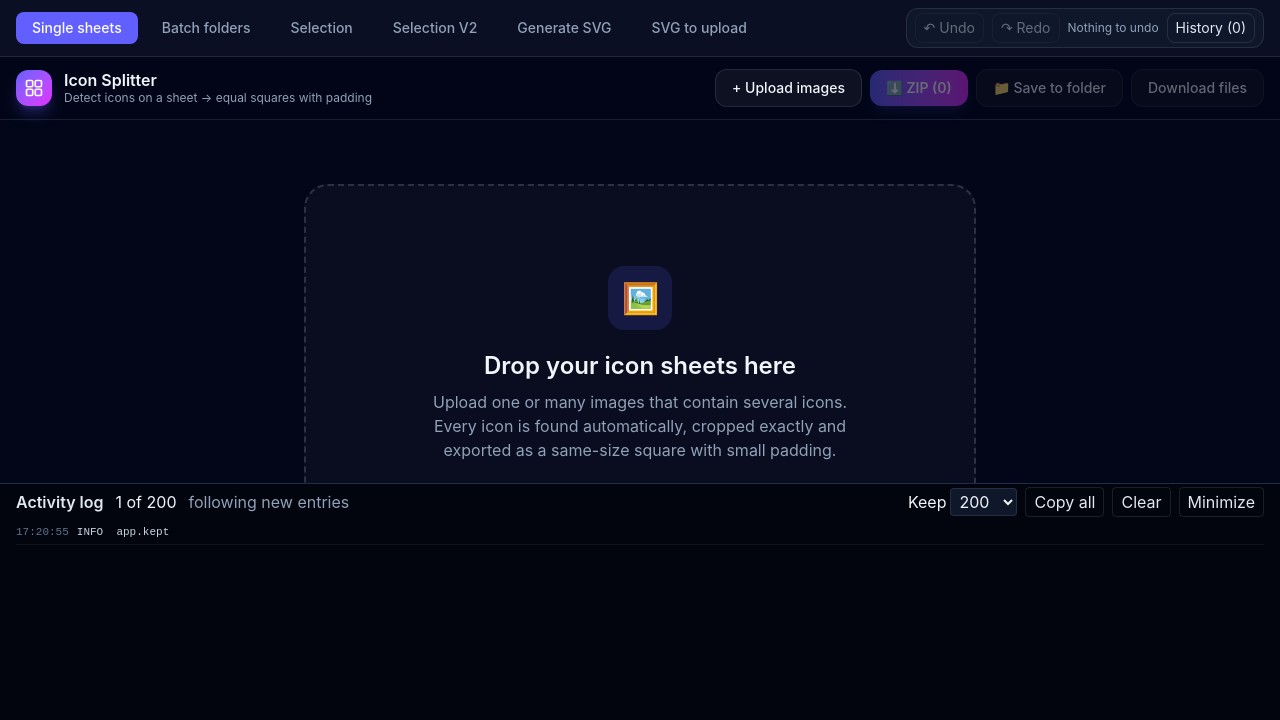
Test: the log dock › minimizes and restores, and remembers the choice across a restart
Click the button with test id "log-minimize": (1221,502) [1178,487,1264,517]
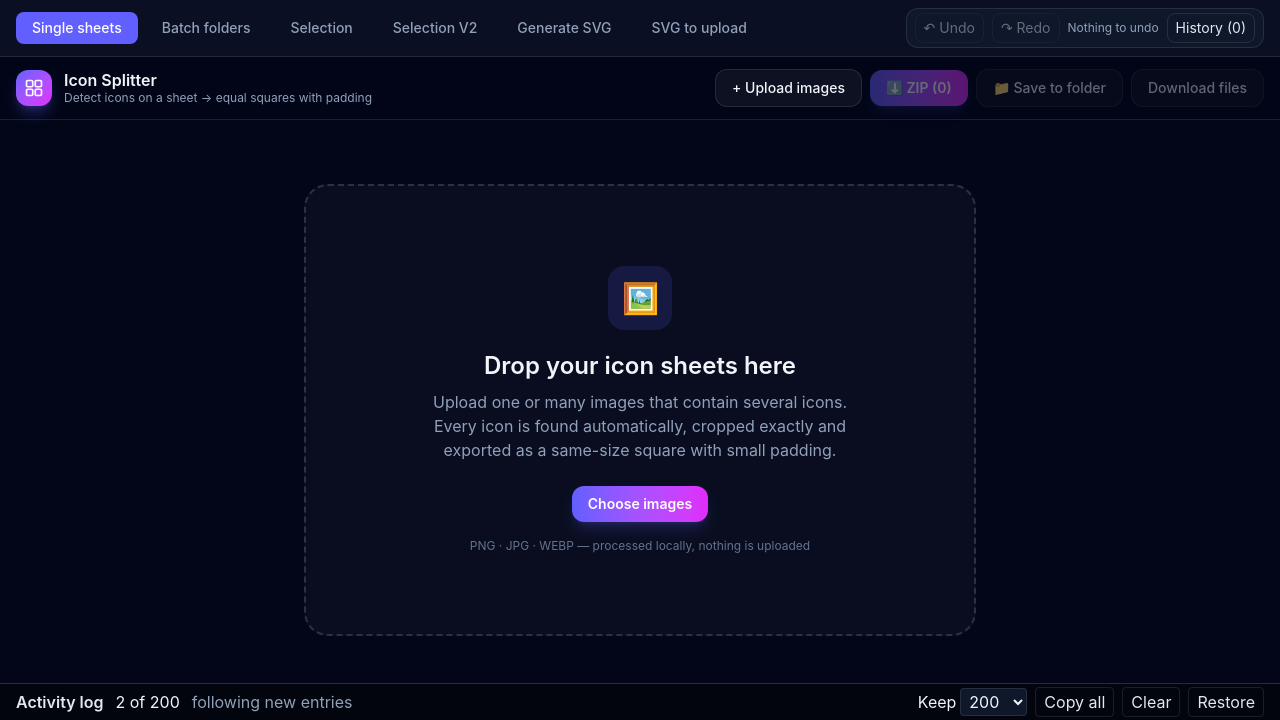
Expected: the button with test id "log-minimize" reads "Restore"
Expected: the element with test id "log-body" is gone
Click the button with test id "log-minimize": (1226,702) [1188,687,1264,717]
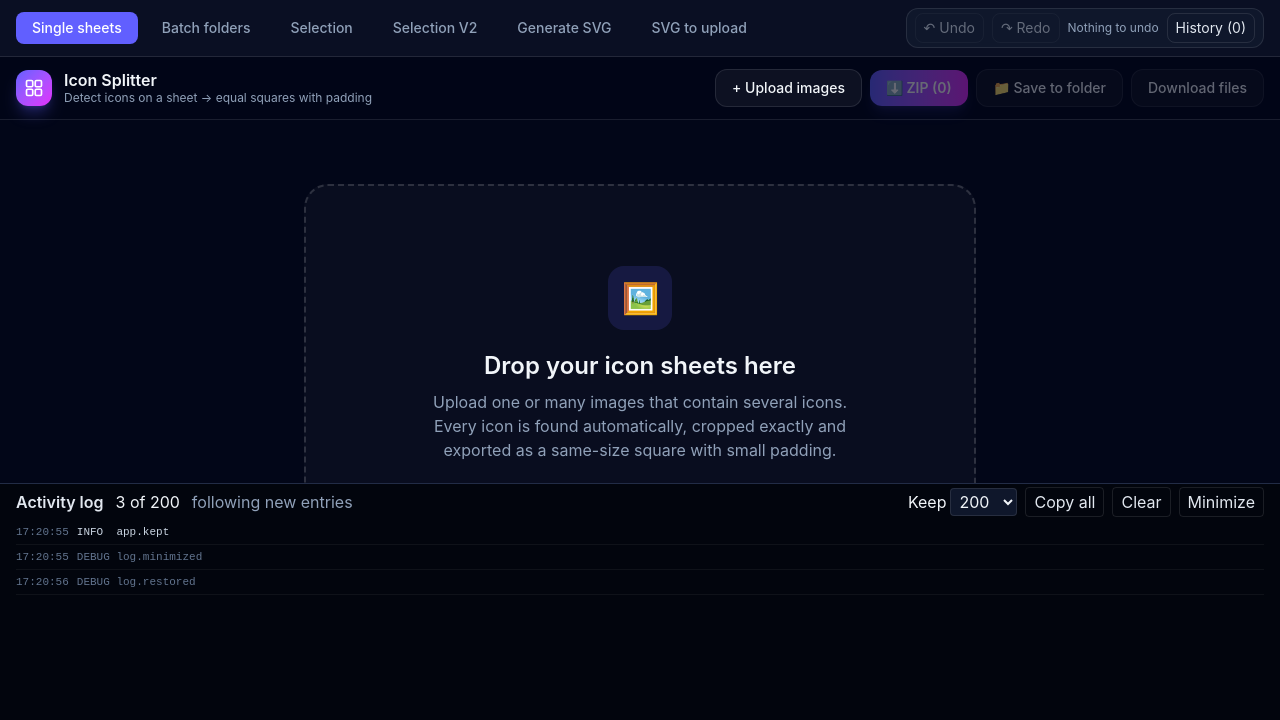
Expected: the element with test id "log-body" is shown, [16,520,1264,595]
Expected: the list item with test id "log-entry" shows "app.kept", [77,526,169,538]
